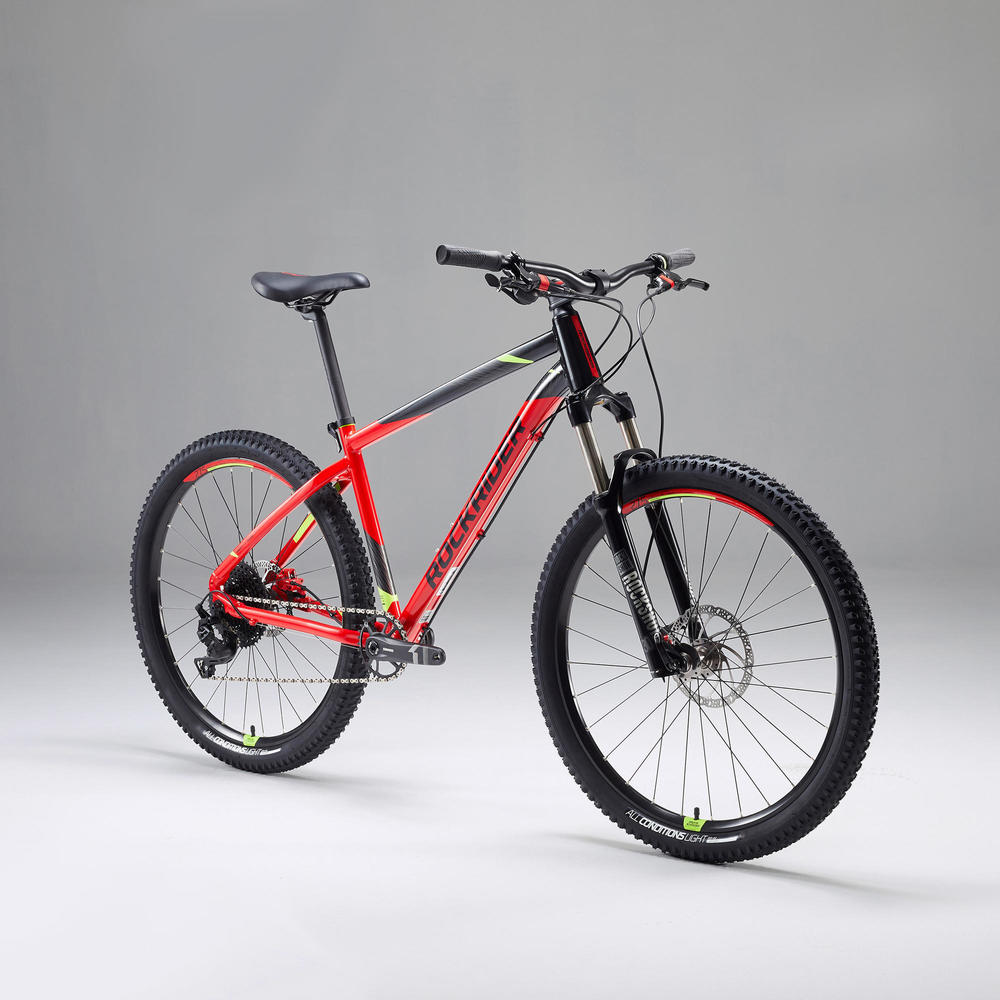MountainBike: (110, 230, 888, 852)
